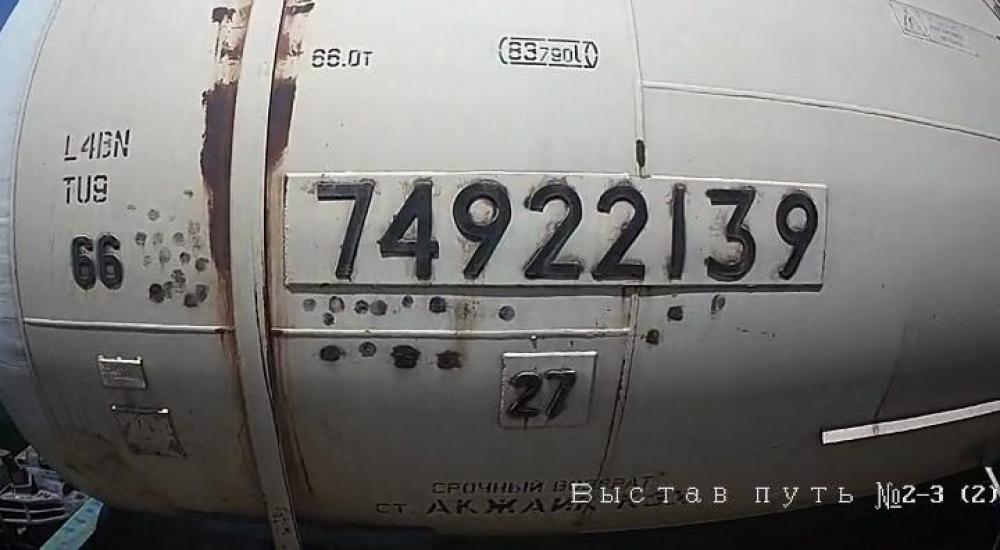Wagon-number: (307, 172, 826, 286)
